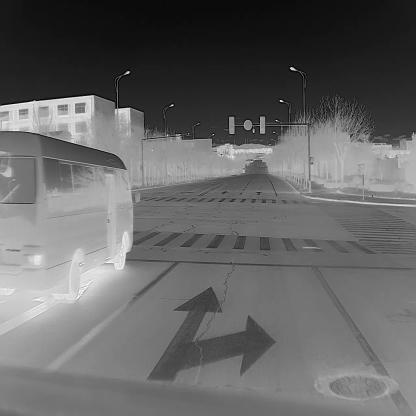car: (0, 131, 141, 299), (242, 167, 245, 173)
